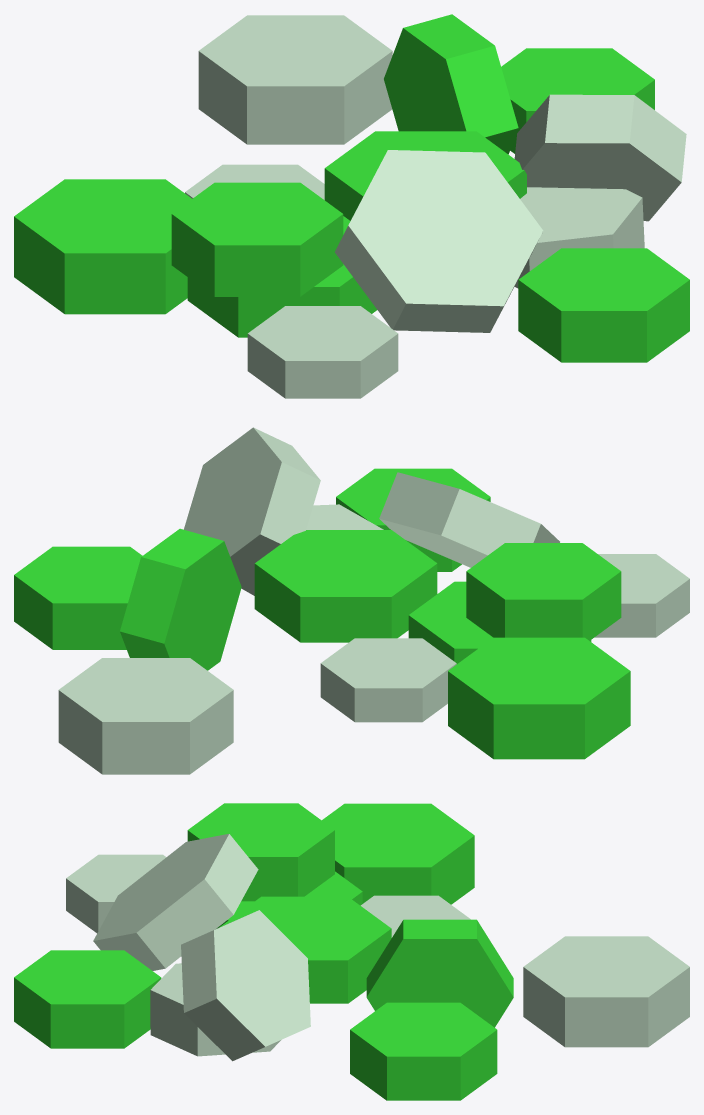
The model's file is OnionSlices_Vsiual.fbx.
The picture shows the model from 3 angles, top to bottom: view 1: azimuth 30°, elevation 25°; view 2: azimuth 150°, elevation 25°; view 3: azimuth 270°, elevation 25°; orthographic projection. The views are drawn at different scales.
Visible parts, largest first — view 1: 柱体.003, 柱体.009, 柱体.004, 柱体.010, 柱体.006, 柱体.007, 柱体.012, 柱体.011, 柱体.005, 柱体.008, 柱体, 柱体.002 (+1 smaller); view 2: 柱体.004, 柱体.009, 柱体, 柱体.006, 柱体.007, 柱体.012, 柱体.005, 柱体.001, 柱体.003, 柱体.011, 柱体.002, 柱体.010 (+1 smaller); view 3: 柱体.009, 柱体.007, 柱体.005, 柱体.003, 柱体.010, 柱体.004, 柱体.012, 柱体, 柱体.006, 柱体.011, 柱体.008, 柱体.001 (+1 smaller).
Part boxes in pixels (left/top/right/bottom): 柱体.003: left=335, top=150, right=543, bottom=332; 柱体.009: left=198, top=15, right=392, bottom=144; 柱体.004: left=14, top=179, right=191, bottom=314; 柱体.010: left=518, top=248, right=689, bottom=362; 柱体.006: left=171, top=182, right=343, bottom=296; 柱体.007: left=514, top=94, right=686, bottom=221; 柱体.012: left=384, top=14, right=518, bottom=154; 柱体.011: left=247, top=306, right=398, bottom=398; 柱体.005: left=501, top=48, right=654, bottom=153; 柱体.008: left=514, top=187, right=644, bottom=288; 柱体: left=324, top=131, right=526, bottom=220; 柱体.002: left=187, top=216, right=376, bottom=337; 柱体.004: left=448, top=637, right=630, bottom=759; 柱体.009: left=58, top=658, right=233, bottom=774; 柱体: left=254, top=530, right=437, bottom=642; 柱体.006: left=466, top=543, right=621, bottom=640; 柱体.007: left=184, top=427, right=320, bottom=589; 柱体.012: left=120, top=528, right=241, bottom=670; 柱体.005: left=14, top=546, right=142, bottom=649; 柱体.001: left=320, top=638, right=456, bottom=722; 柱体.003: left=379, top=472, right=559, bottom=567; 柱体.011: left=594, top=554, right=689, bottom=637; 柱体.002: left=408, top=581, right=591, bottom=663; 柱体.010: left=336, top=468, right=490, bottom=571; 柱体.009: left=523, top=936, right=689, bottom=1047; 柱体.007: left=181, top=910, right=310, bottom=1061; 柱体.005: left=350, top=1002, right=497, bottom=1100; 柱体.003: left=93, top=834, right=258, bottom=970; 柱体.010: left=14, top=950, right=161, bottom=1048; 柱体.004: left=322, top=803, right=474, bottom=904; 柱体.012: left=366, top=919, right=513, bottom=1027; 柱体: left=219, top=896, right=391, bottom=1003; 柱体.006: left=187, top=803, right=334, bottom=901; 柱体.011: left=66, top=854, right=166, bottom=933; 柱体.008: left=150, top=963, right=280, bottom=1056; 柱体.001: left=360, top=895, right=470, bottom=937.
Bounding box in the file's own units: 702 × 175 × 778.
